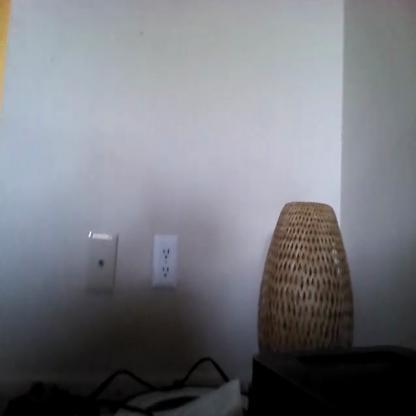OUTLET: (153, 235, 177, 288)
